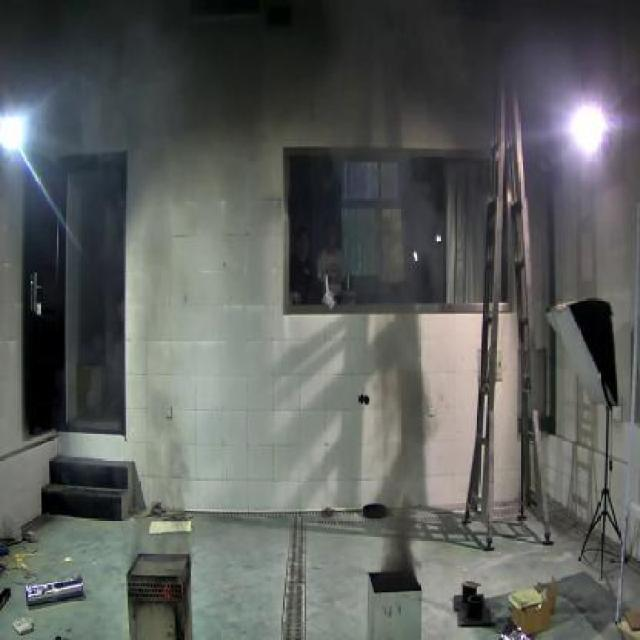fire: (370, 393, 441, 569), (132, 391, 194, 554)
